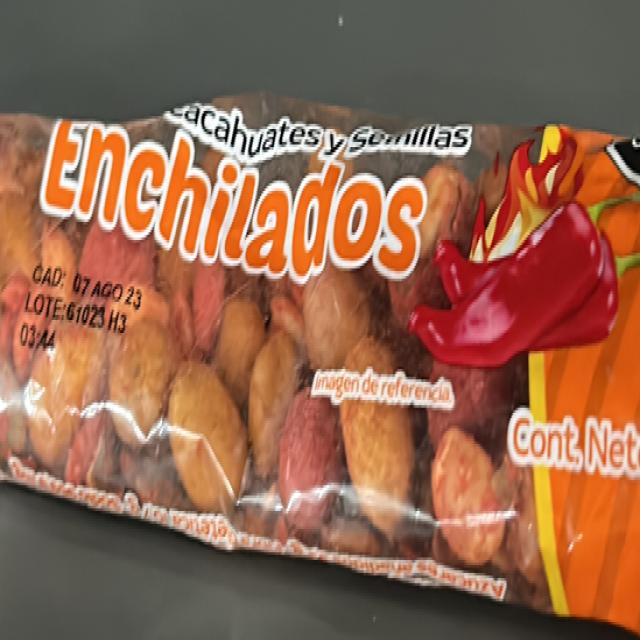bitzEnchilado95: (1, 97, 640, 603)
